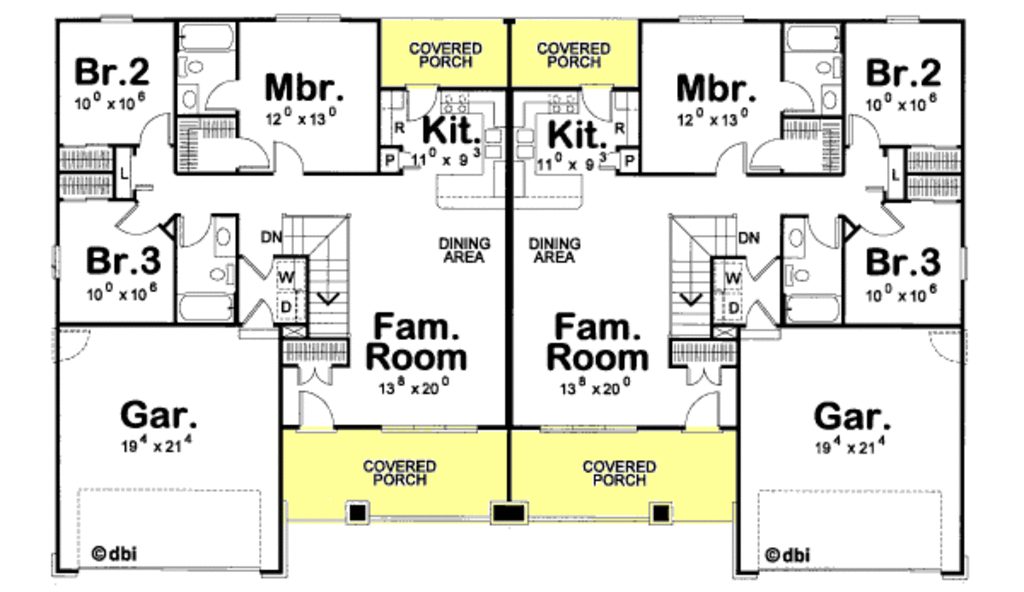door: (46, 319, 102, 367), (669, 386, 722, 436), (739, 241, 784, 291), (294, 383, 338, 433), (266, 135, 314, 180), (280, 358, 350, 388), (402, 75, 440, 129), (750, 131, 795, 176), (846, 107, 886, 155), (745, 296, 784, 344), (117, 202, 163, 241), (770, 73, 810, 114), (675, 360, 731, 388), (135, 107, 173, 148), (580, 81, 616, 124), (713, 140, 752, 179), (862, 203, 905, 238), (176, 211, 214, 250), (805, 213, 847, 248), (930, 324, 964, 365), (207, 80, 241, 113)
large_sink: (206, 258, 243, 293), (808, 55, 842, 82), (789, 262, 815, 288), (179, 56, 205, 78)
small_sink: (786, 214, 812, 261), (215, 213, 236, 261)
stairs: (273, 208, 368, 337), (659, 205, 748, 339)
tub: (782, 16, 849, 53), (175, 287, 239, 325), (175, 22, 236, 53), (781, 295, 845, 321)
twin_sink: (470, 127, 505, 161), (513, 127, 543, 165)
window: (524, 419, 640, 439), (371, 420, 484, 439), (675, 7, 760, 31), (953, 240, 980, 289), (273, 8, 345, 26), (90, 9, 136, 31), (875, 12, 922, 32)
